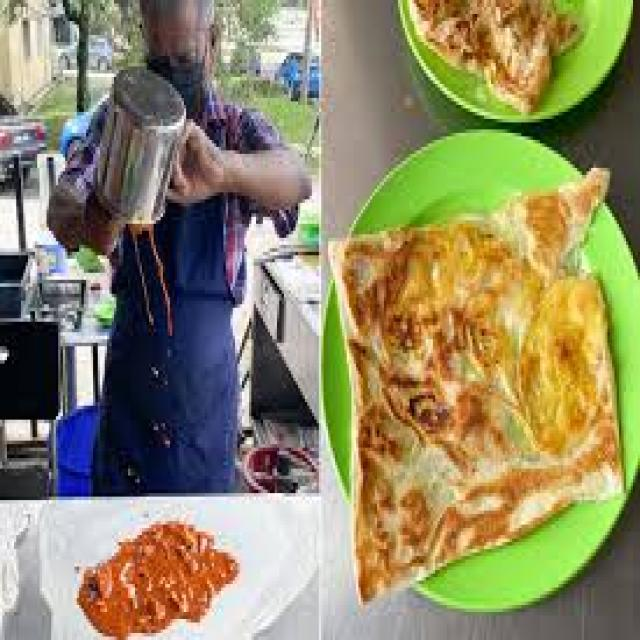Paratha: (334, 231, 630, 582), (414, 8, 594, 130)
